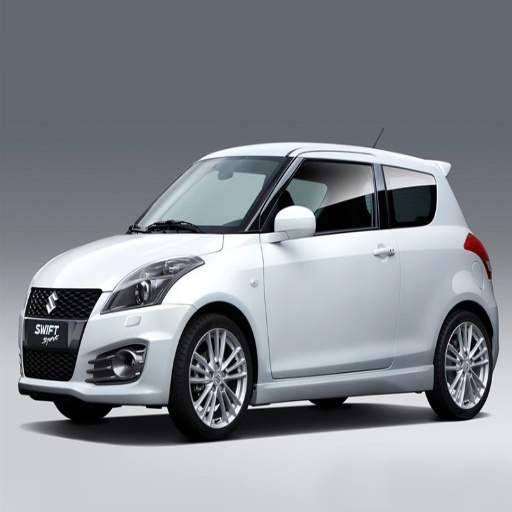back_left_door: (377, 163, 439, 353)
front_bumper: (18, 290, 190, 403)
front_glass: (130, 158, 289, 233)
front_left_door: (262, 156, 399, 375)
